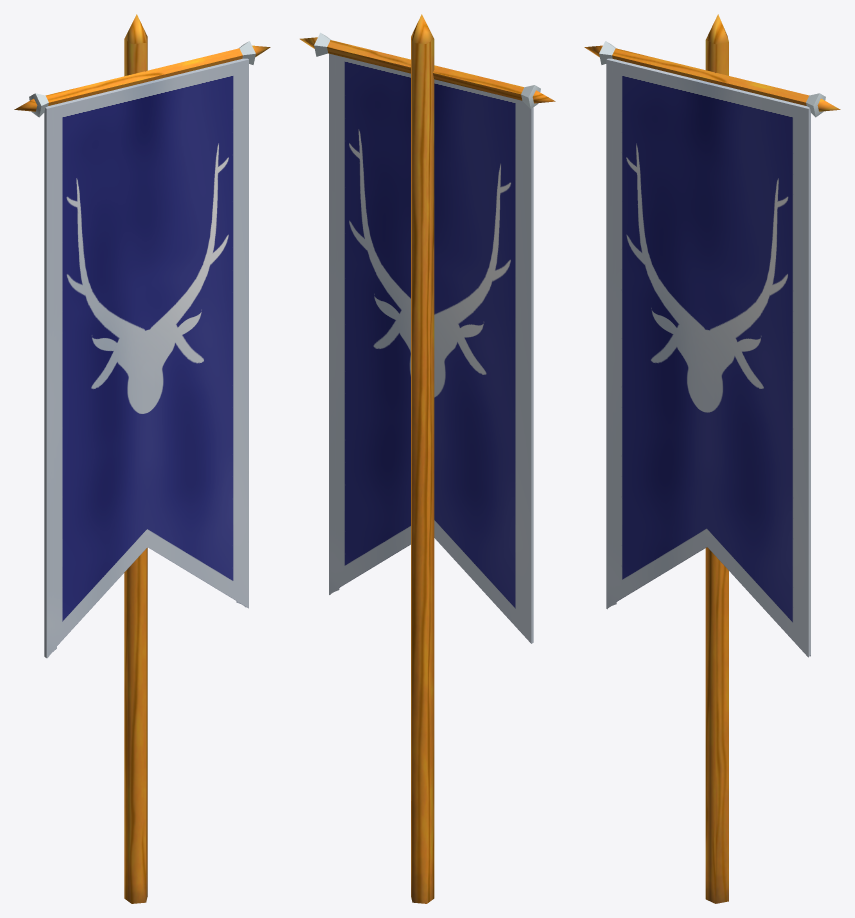
File: AntlerFlagNormal.fbx
3 renders of one model, left to right at view 1: azimuth 30°, elevation 25°; view 2: azimuth 150°, elevation 25°; view 3: azimuth 330°, elevation 25°, orthographic.
Parts seen in each view (by area): view 1: AntlerFlagBoring; view 2: AntlerFlagBoring; view 3: AntlerFlagBoring.
Boxes of the visible parts, x1=… form: AntlerFlagBoring: x1=14, y1=14, x2=270, y2=903; AntlerFlagBoring: x1=300, y1=14, x2=555, y2=903; AntlerFlagBoring: x1=584, y1=14, x2=840, y2=903.
Bounding box in the file's own units: 119 × 391 × 14.29.
